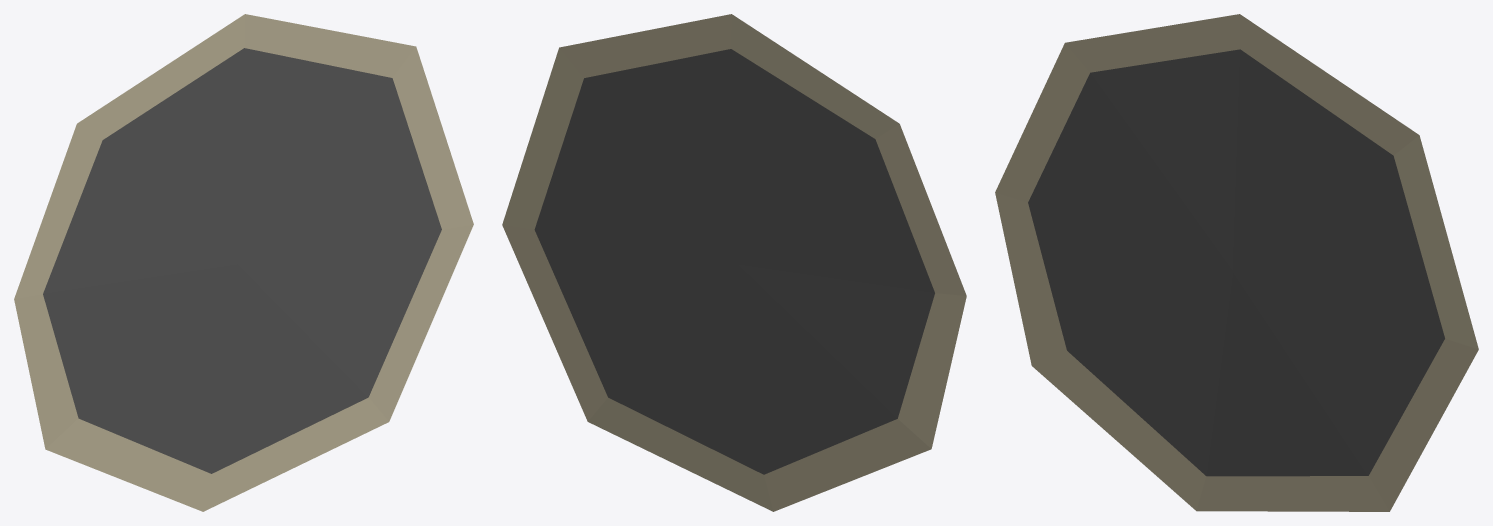
The model's file is ui_sapienMarkerSkillBackground.glb.
3 views of the same model, side by side, from view 1: azimuth 30°, elevation 25°; view 2: azimuth 150°, elevation 25°; view 3: azimuth 330°, elevation 25° (orthographic). The views are drawn at different scales.
Parts seen in each view (by area): view 1: Cylinder; view 2: Cylinder; view 3: Cylinder.
Boxes of the visible parts, left/top/right/bottom form: Cylinder: left=14, top=14, right=473, bottom=511; Cylinder: left=502, top=14, right=966, bottom=511; Cylinder: left=995, top=14, right=1478, bottom=511.
Bounding box in the file's own units: 0.8798 × 0.8871 × 0.00914.
